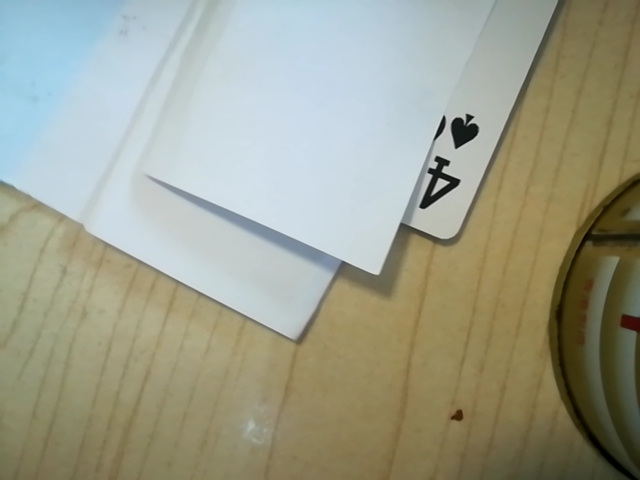ht 4: (399, 95, 492, 234)
